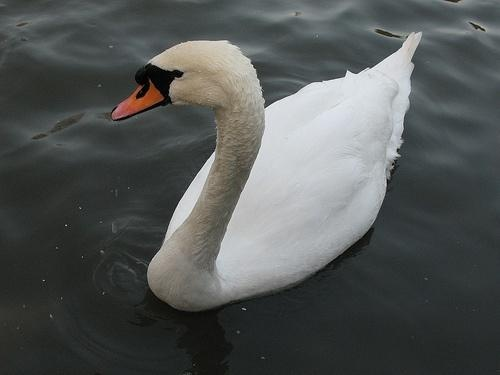bird: (107, 22, 428, 312)
